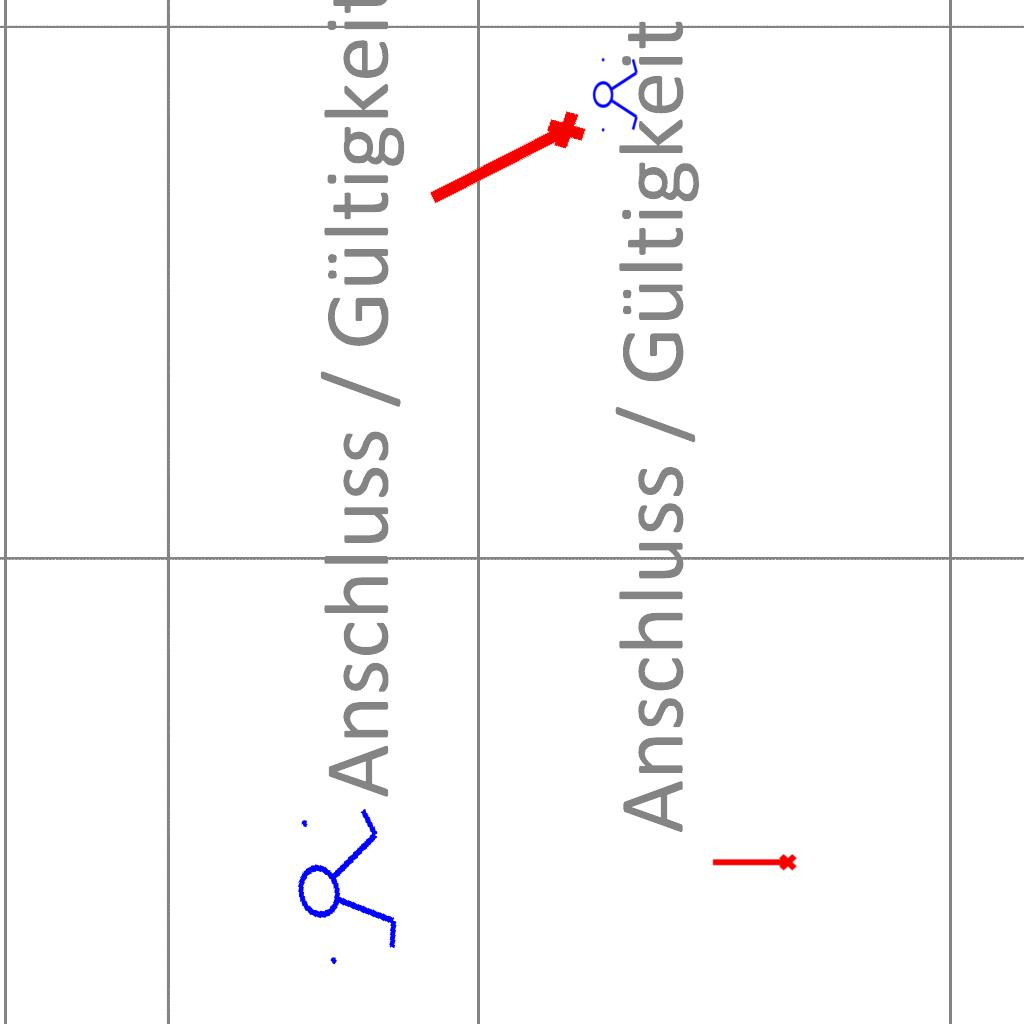ASR_Ansaugoeffnung: (418, 102, 596, 224), (710, 852, 798, 875)
Serienschalter: (279, 792, 409, 978), (592, 52, 640, 136)
